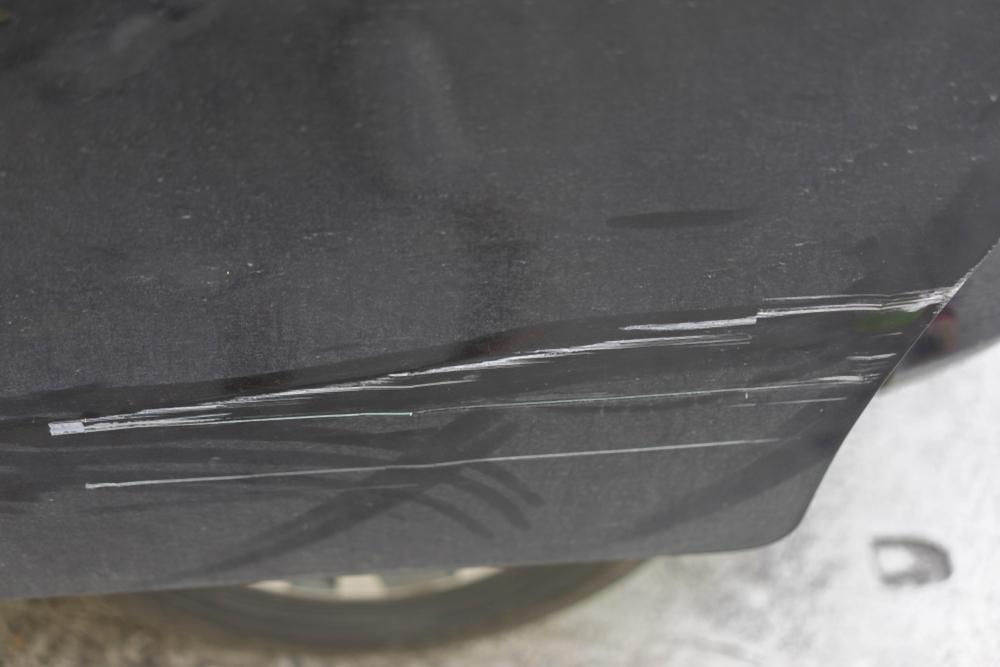scratch: (45, 277, 970, 499)
